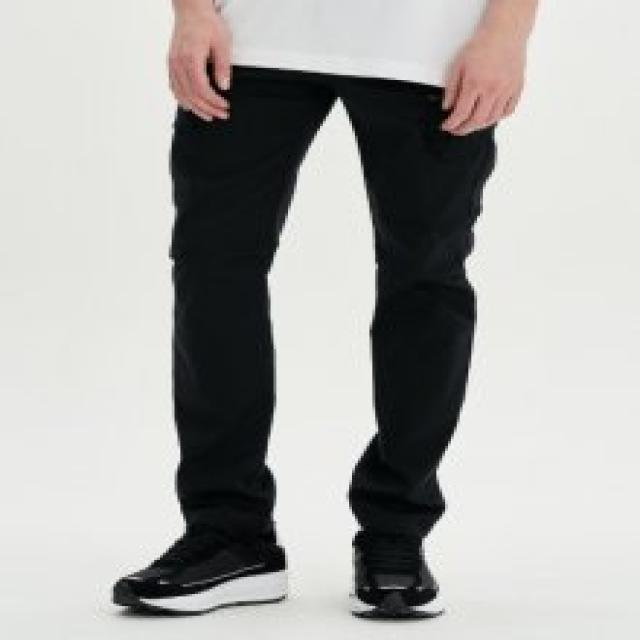long-pants: (160, 64, 498, 574)
